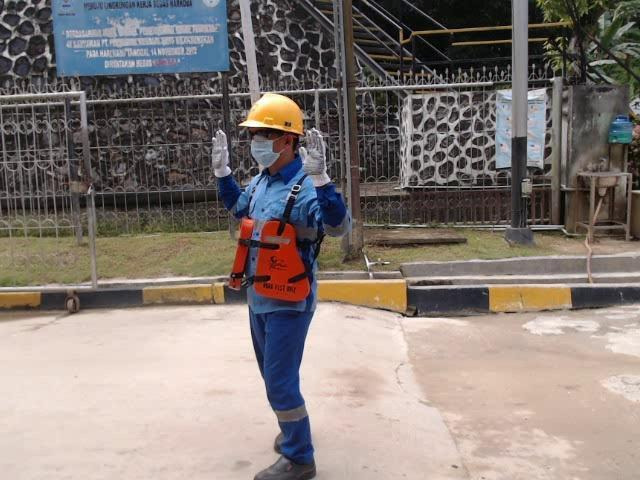vest: (227, 215, 315, 302)
